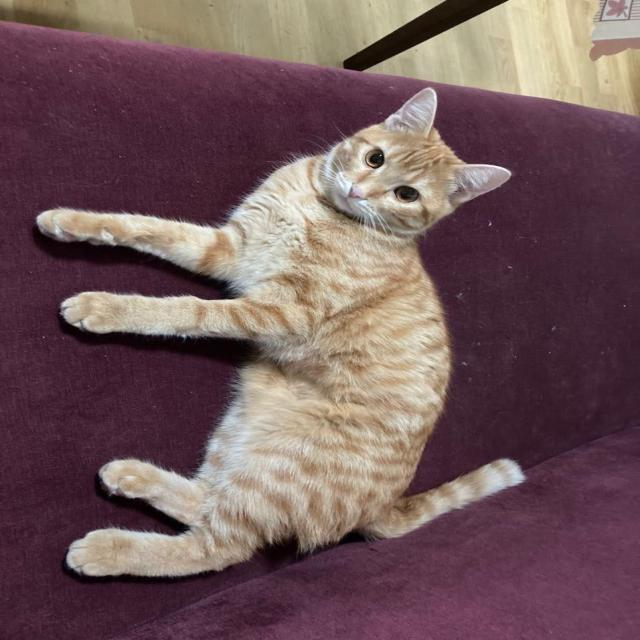red_cat: (74, 93, 483, 575)
